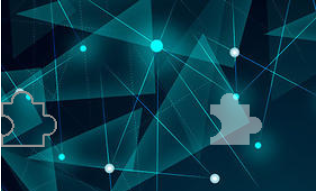target: (205, 90, 264, 149)
